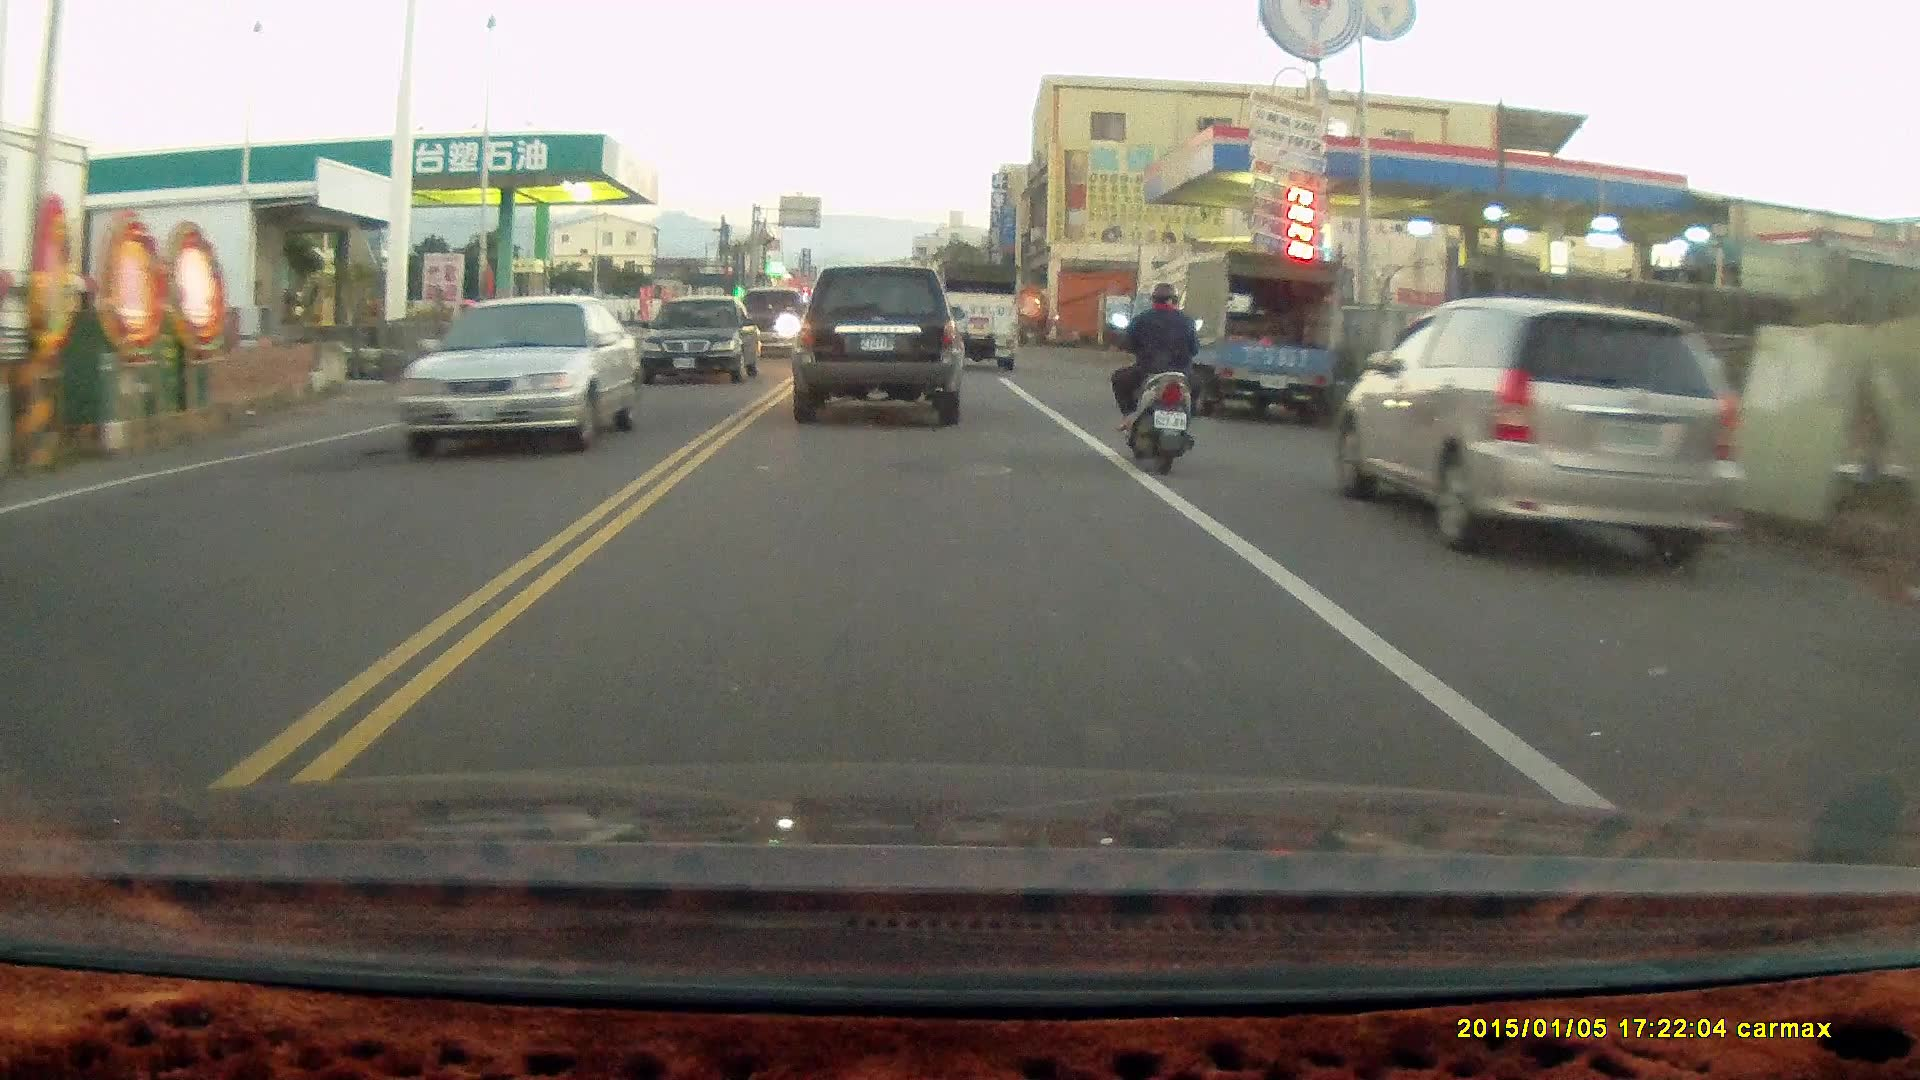rider: (1110, 277, 1210, 471)
vehicle: (1339, 297, 1745, 574), (400, 293, 639, 458), (1160, 252, 1336, 423), (790, 264, 964, 426), (642, 296, 760, 381), (936, 256, 1019, 370)
